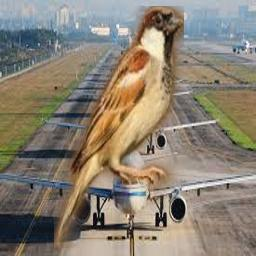Sparrow: (54, 6, 184, 248)
